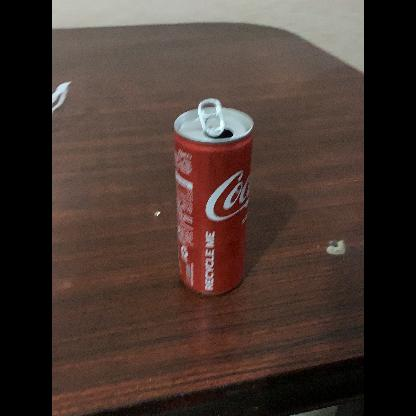Lid_Open: (189, 92, 236, 142)
Tin_Can: (169, 96, 257, 298)
